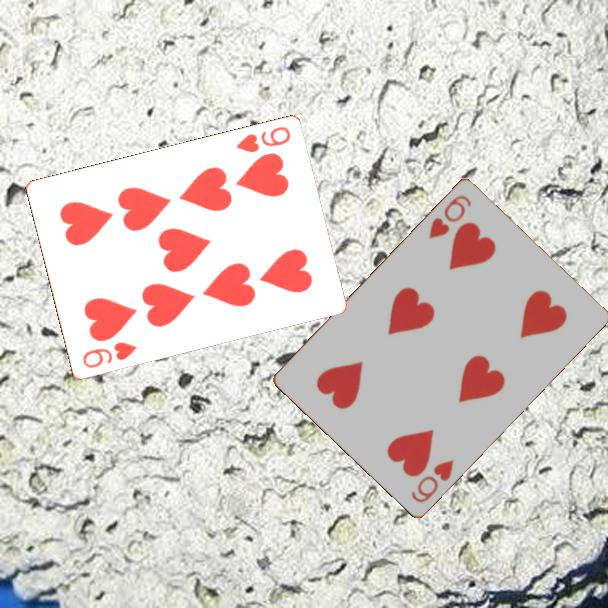h06: (425, 191, 474, 241), (408, 456, 457, 505)
h09: (79, 339, 140, 372), (232, 123, 293, 156)
